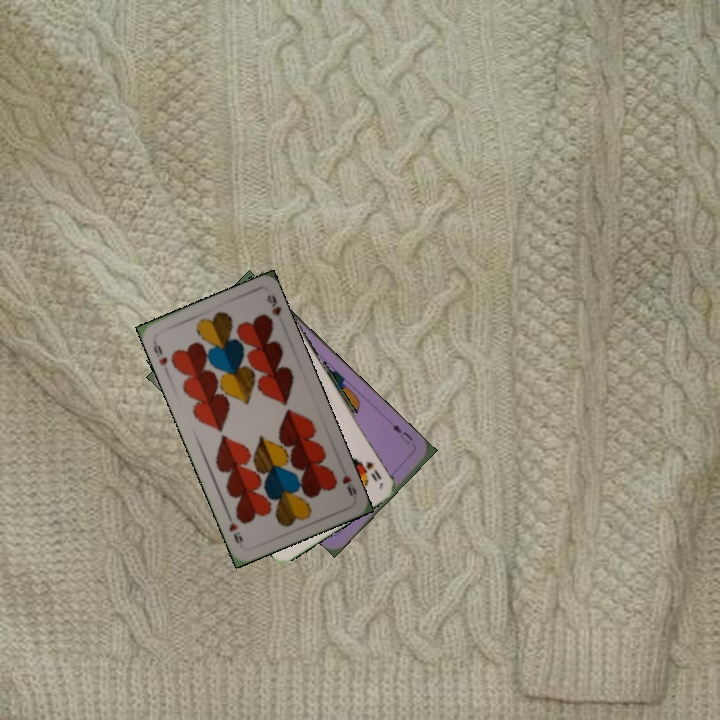EU: (388, 420, 415, 447)
H9: (148, 336, 170, 368), (338, 470, 359, 499)
SO: (362, 456, 384, 483)
